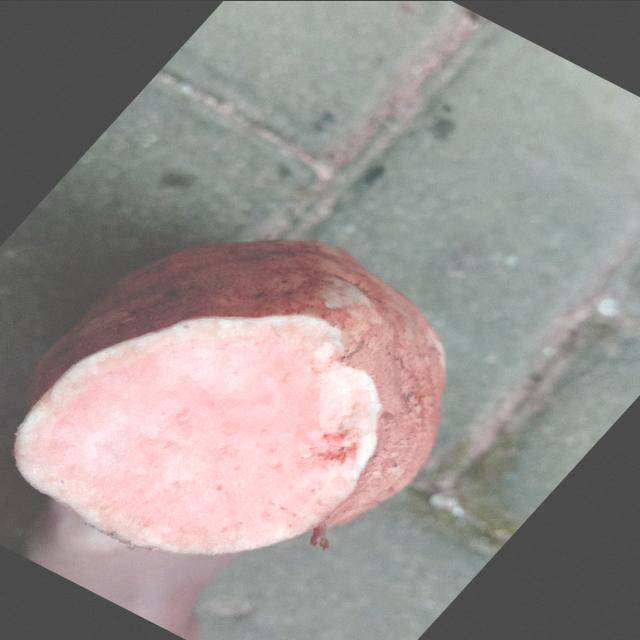Healthy Sweet Potato: (15, 314, 382, 554)
